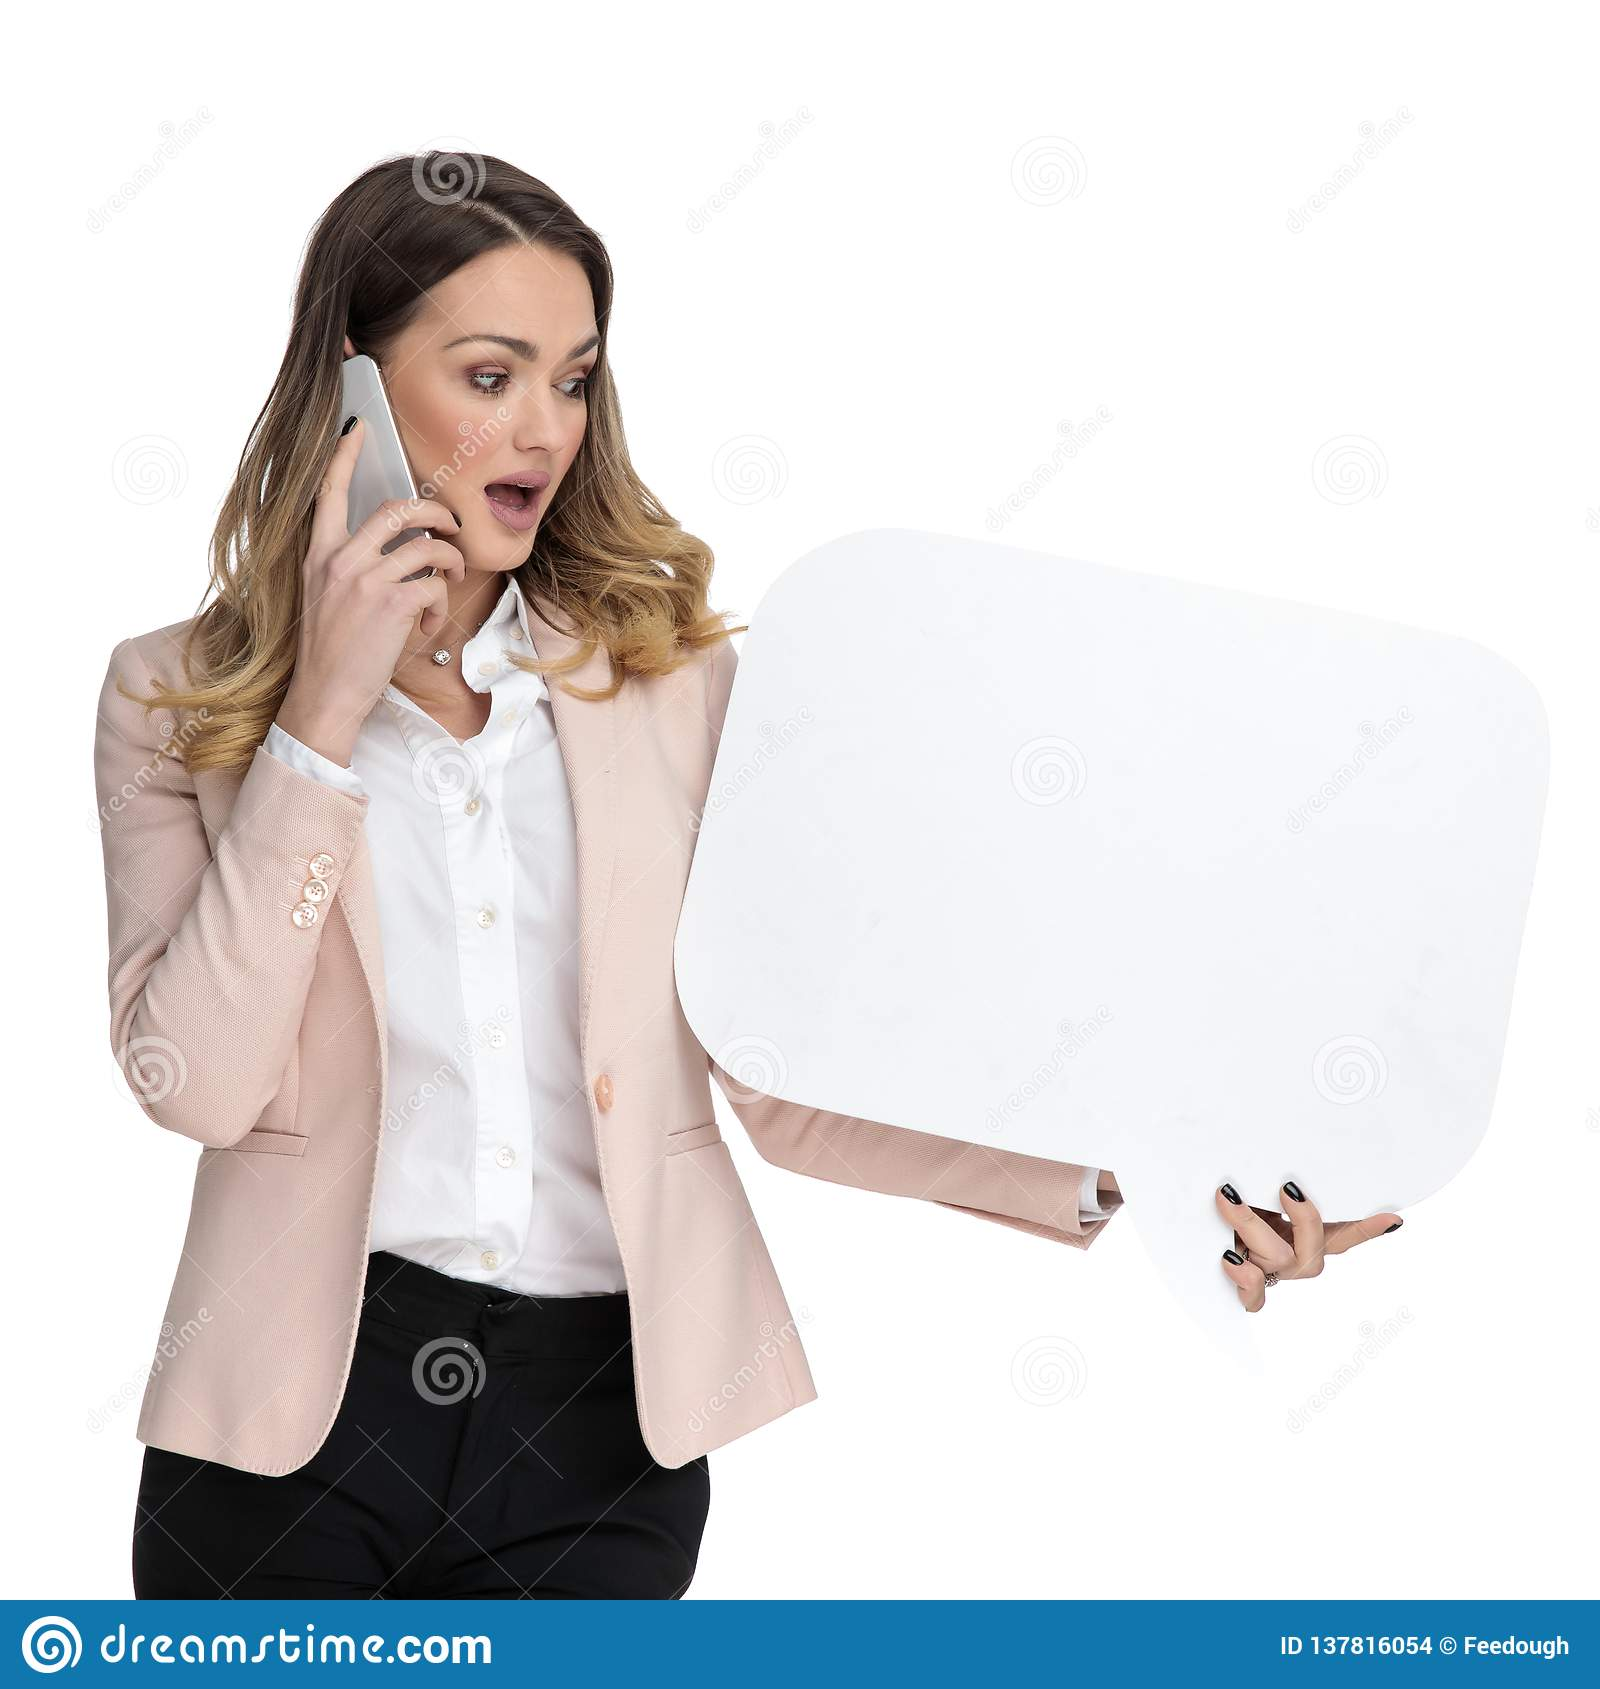phone: (305, 350, 436, 596)
talk: (283, 319, 603, 750)
